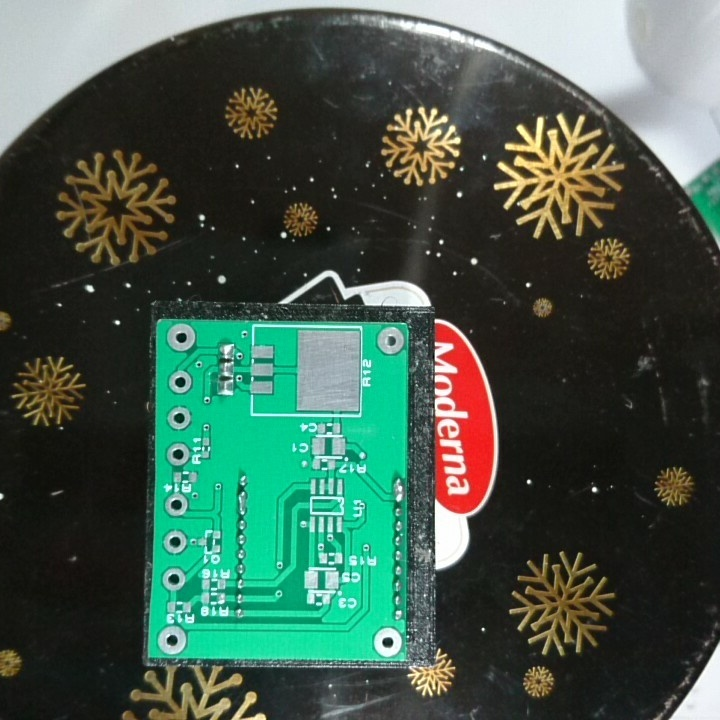F: (371, 625, 405, 659), (165, 321, 199, 354), (155, 624, 190, 655), (374, 325, 406, 357), (160, 527, 191, 558), (165, 403, 194, 433), (162, 490, 191, 518), (159, 566, 188, 592), (165, 440, 192, 467), (166, 369, 194, 395)
P: (234, 487, 250, 517), (391, 474, 406, 503)
